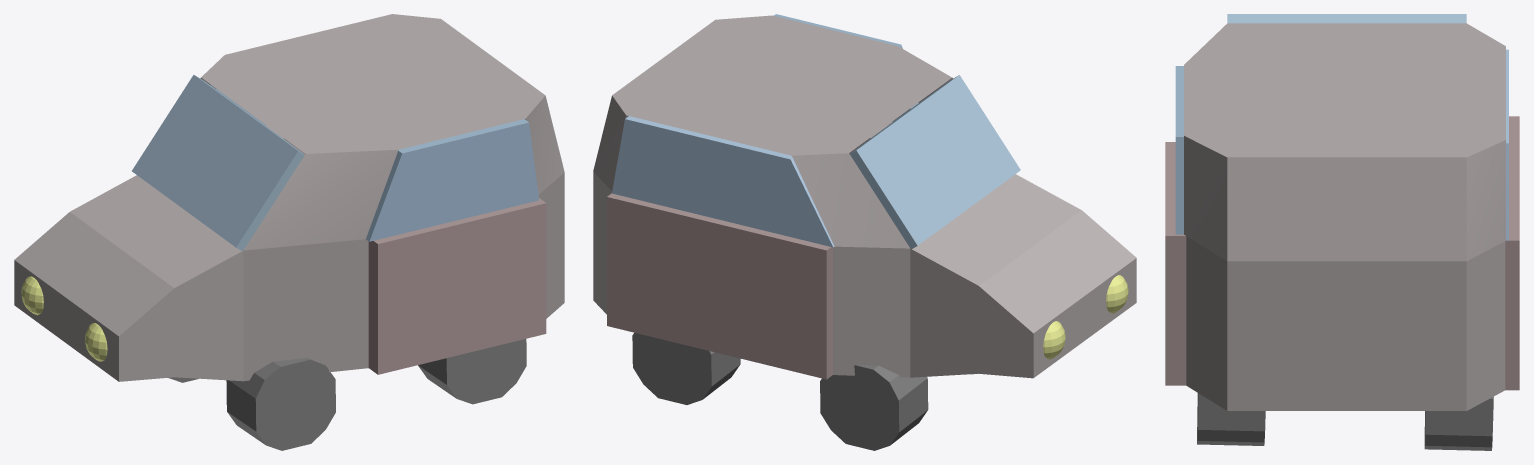
File: Auto.gltf
3 views of the same model, side by side, from view 1: azimuth 30°, elevation 25°; view 2: azimuth 150°, elevation 25°; view 3: azimuth 270°, elevation 25° (orthographic). The views are drawn at different scales.
Visible parts, largest first — view 1: Cubo (×3), Cubo_5, Cubo_1, Cubo_3, Esfera (×2); view 2: Cubo (×3), Cubo_4, Cubo_2, Cubo_1, Esfera (×2); view 3: Cubo (×3), Cubo_5, Cubo_4, Cubo_1, Cubo_3, Cubo_2.
Part boxes in pixels (x1,y1,x2,y2): Cubo (×3): (14, 14, 564, 450); Cubo_5: (368, 198, 546, 374); Cubo_1: (132, 75, 304, 251); Cubo_3: (366, 119, 538, 241); Esfera (×2): (21, 276, 107, 361); Cubo (×3): (593, 15, 1136, 450); Cubo_4: (607, 193, 832, 379); Cubo_2: (612, 116, 834, 247); Cubo_1: (850, 75, 1020, 249); Esfera (×2): (1043, 275, 1128, 359); Cubo (×3): (1184, 23, 1505, 450); Cubo_5: (1165, 142, 1186, 385); Cubo_4: (1505, 116, 1519, 390); Cubo_1: (1227, 14, 1466, 23); Cubo_3: (1175, 66, 1183, 234); Cubo_2: (1506, 49, 1508, 240).
Bounding box in the file's own units: 2.52 × 1.53 × 1.48.
